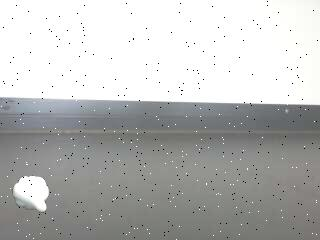Garlic: (12, 176, 51, 214)
